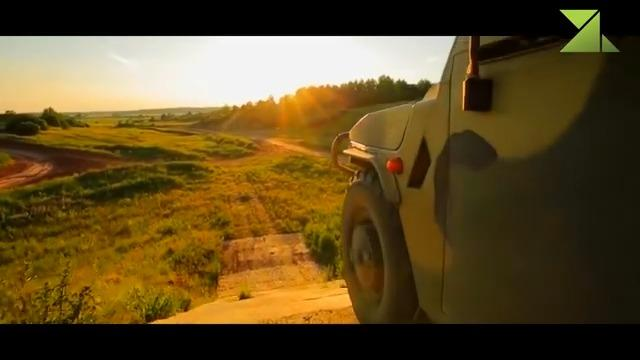MIL_HMMWV: (333, 34, 640, 324)
